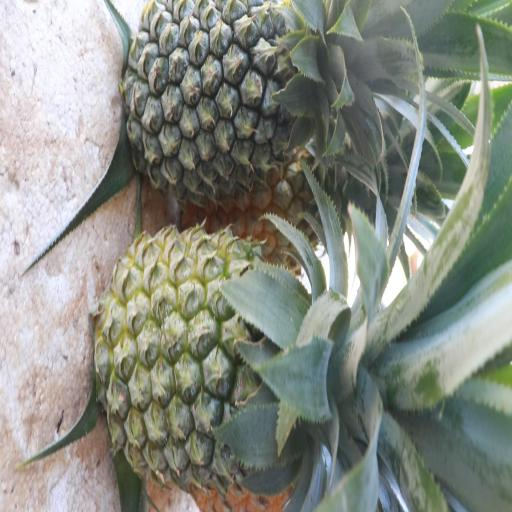------------------------------: (101, 236, 361, 482)
